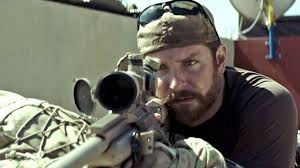Arma Real: (49, 52, 168, 168)
